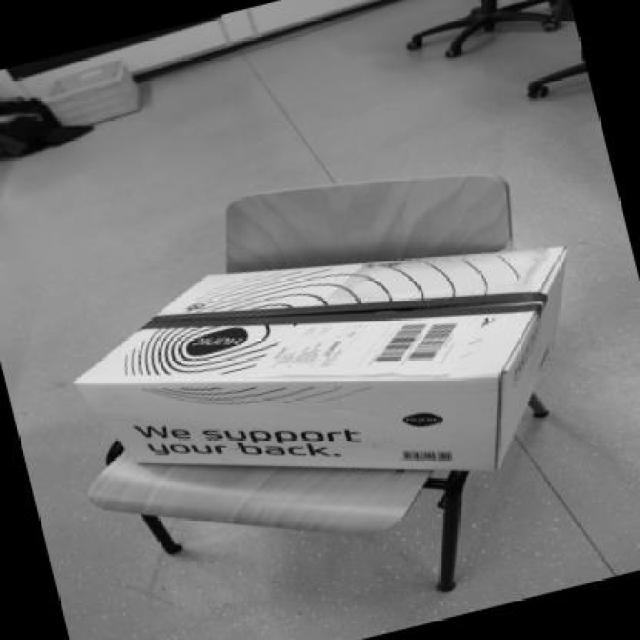box: (26, 183, 626, 575)
